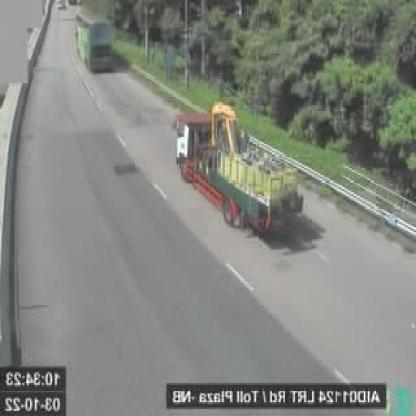Bus: (74, 12, 114, 68)
Truck: (175, 102, 303, 236)
